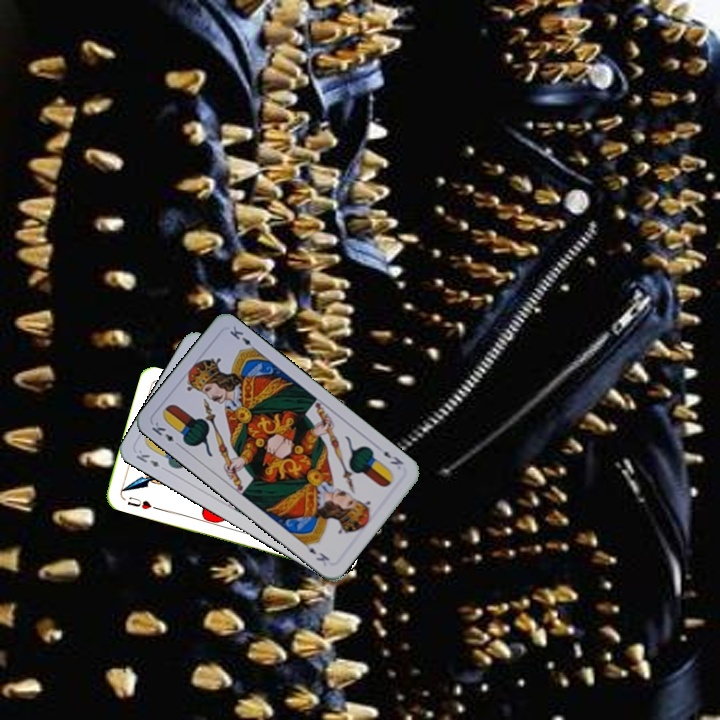EK: (148, 418, 184, 450), (132, 446, 170, 474), (379, 447, 406, 468)
HU: (123, 493, 159, 512)
